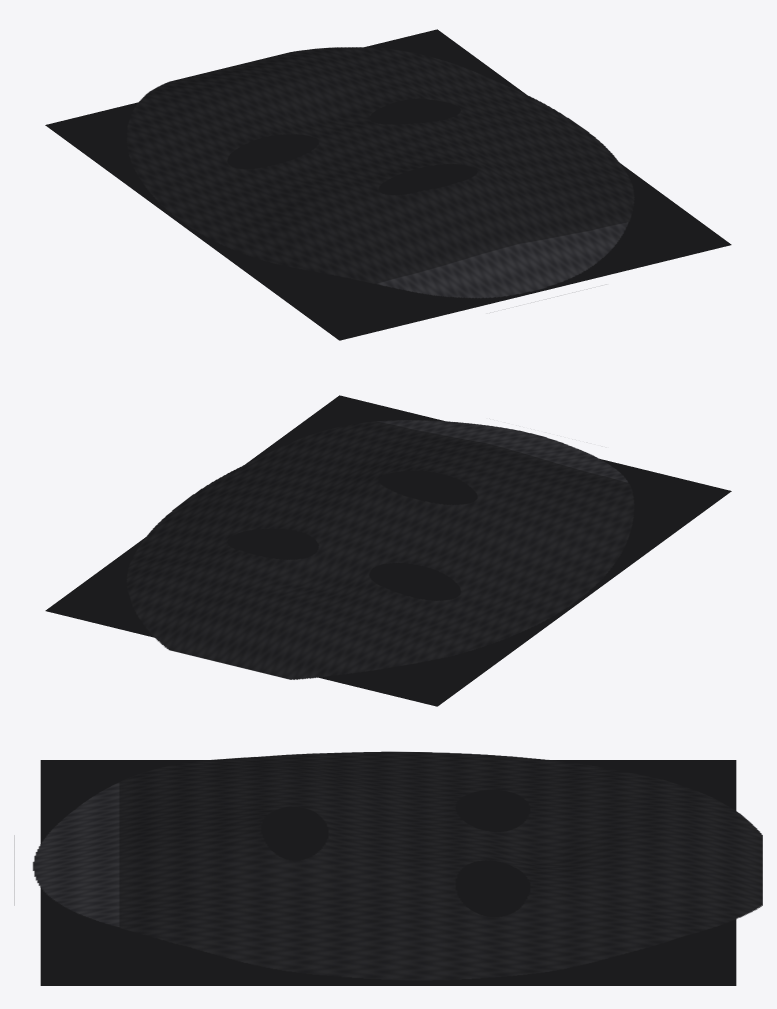
The model's file is ski_mask.glb.
3 views of the same model, one above another, from view 1: azimuth 30°, elevation 25°; view 2: azimuth 150°, elevation 25°; view 3: azimuth 270°, elevation 25° (orthographic). The views are drawn at different scales.
Visible parts, largest first — view 1: ski_mask; view 2: ski_mask; view 3: ski_mask.
Boxes of the visible parts, box(x1,y1,x2,y2) form: ski_mask: box(45, 29, 731, 340); ski_mask: box(45, 395, 731, 706); ski_mask: box(14, 751, 762, 985).
Bounding box in the file's own units: 0.22 × 0.0188 × 0.28.
2 materials, 1 textured.
